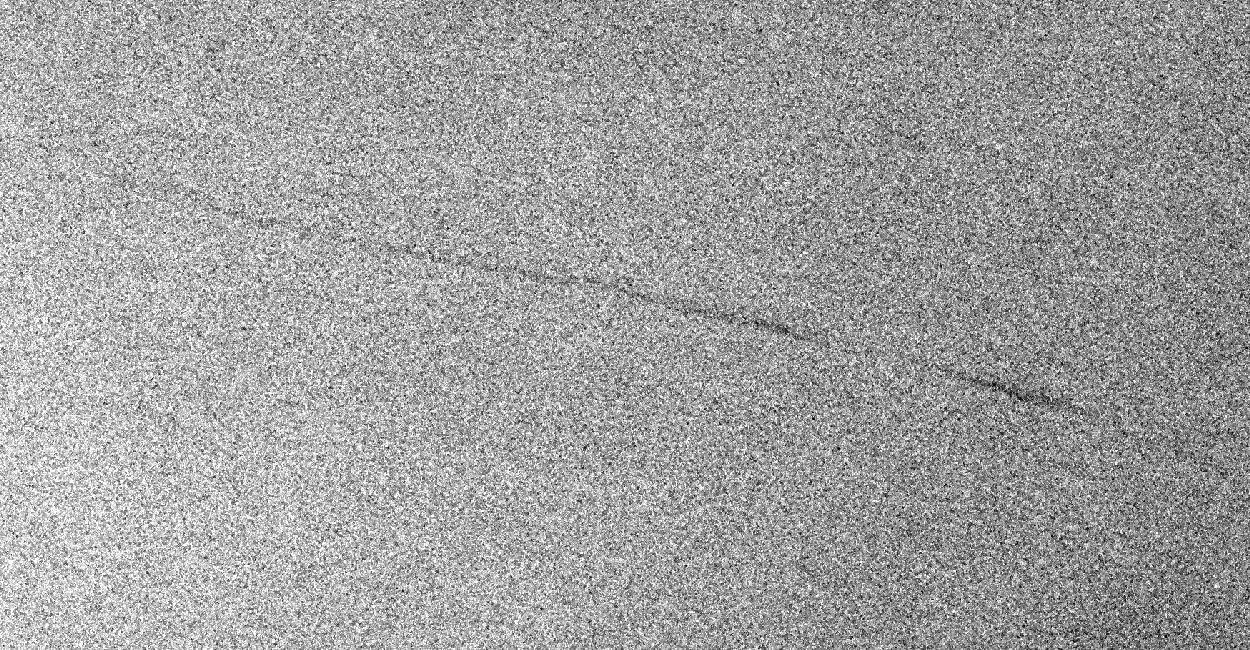Oil Spill: (168, 184, 822, 346), (920, 359, 1120, 424)
